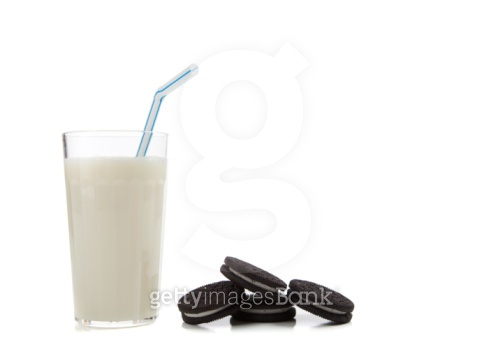glass of milk: (59, 123, 167, 329)
